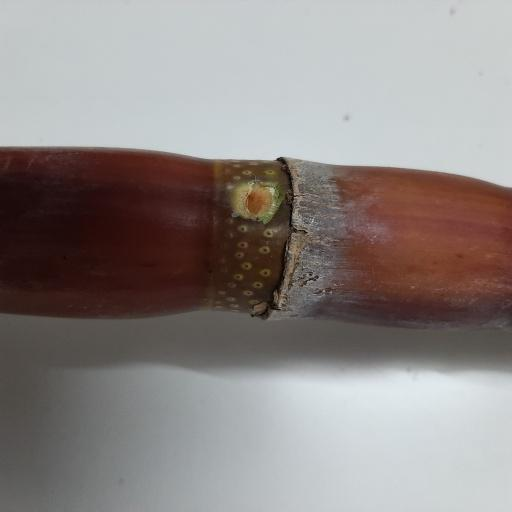Damage_Bud: (232, 178, 281, 222)
